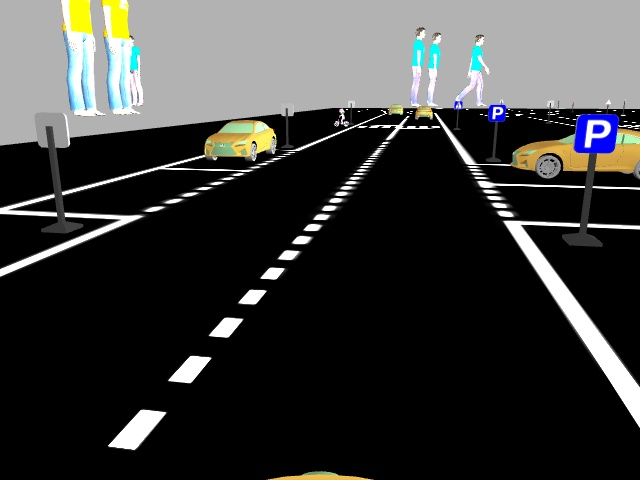Parking: (575, 112, 619, 155), (487, 103, 503, 121)
